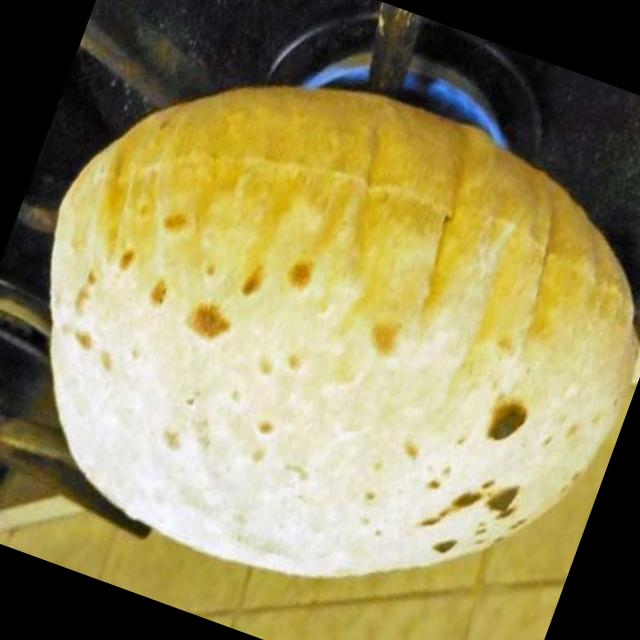roti: (44, 86, 640, 577)
